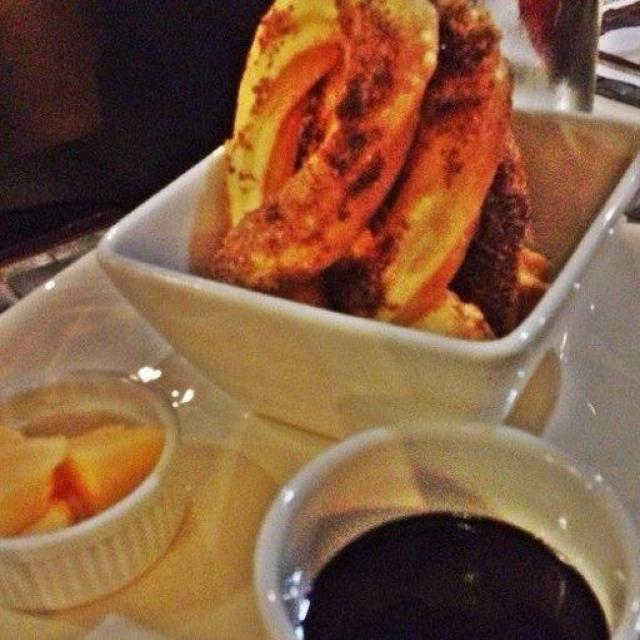food_waste: (218, 1, 543, 303), (2, 406, 149, 525)
